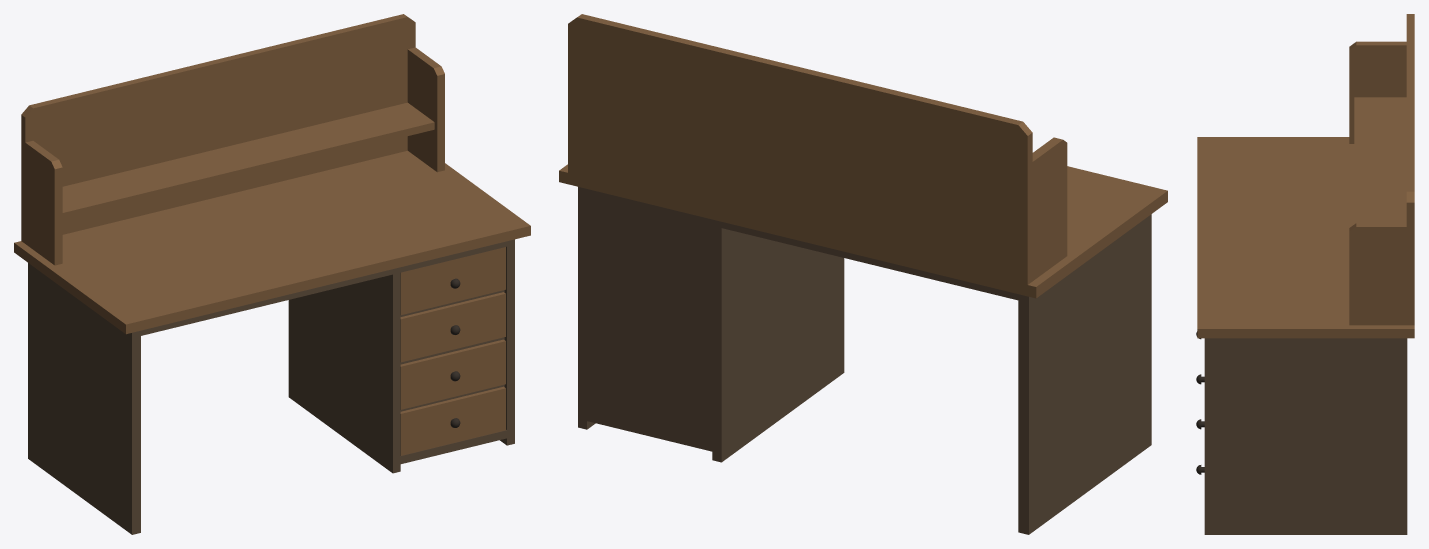
File: meja tulis.fbx
The picture shows the model from 3 angles, left to right: view 1: azimuth 30°, elevation 25°; view 2: azimuth 150°, elevation 25°; view 3: azimuth 270°, elevation 25°; orthographic projection. The views are drawn at different scales.
Parts seen in each view (by area): view 1: Cube.001, Cube, Cube.003, Cube.004, Cube.005, Cube.002; view 2: Cube.001, Cube; view 3: Cube.001, Cube.
Boxes of the visible parts, box(x1,y1,x2,y2) form: Cube.001: box(14, 14, 530, 334); Cube: box(28, 239, 514, 534); Cube.003: box(400, 292, 505, 362); Cube.004: box(400, 339, 505, 409); Cube.005: box(400, 386, 505, 455); Cube.002: box(400, 247, 505, 314); Cube.001: box(559, 14, 1167, 298); Cube: box(578, 187, 1151, 534); Cube.001: box(1197, 14, 1414, 338); Cube: box(1204, 338, 1407, 534).
Bounding box in the file's own units: 449 × 372 × 215.
Materials: 14 (14 with a texture image).
